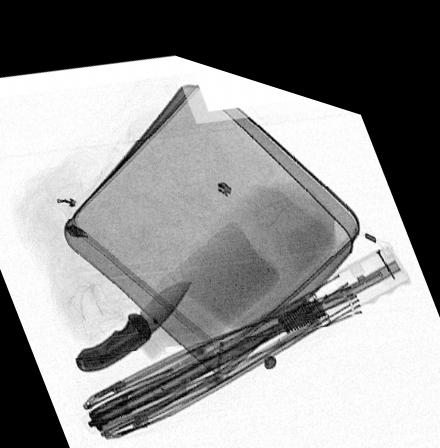Knife: (73, 264, 193, 369)
